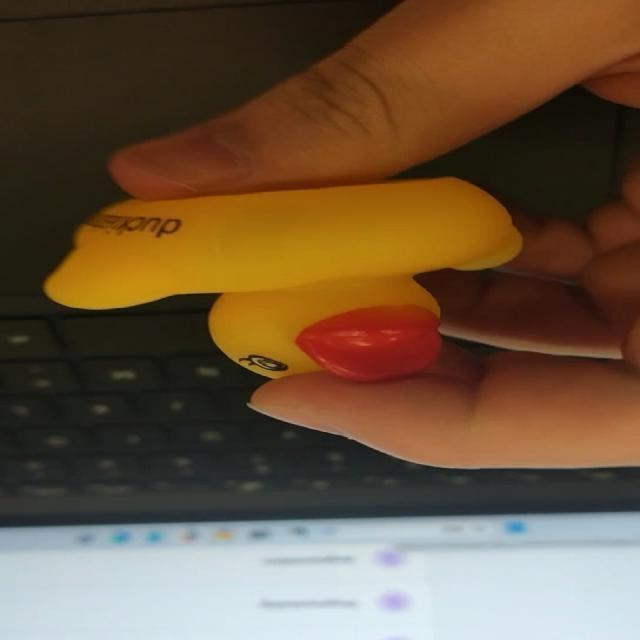rubber-duck: (43, 177, 520, 379)
